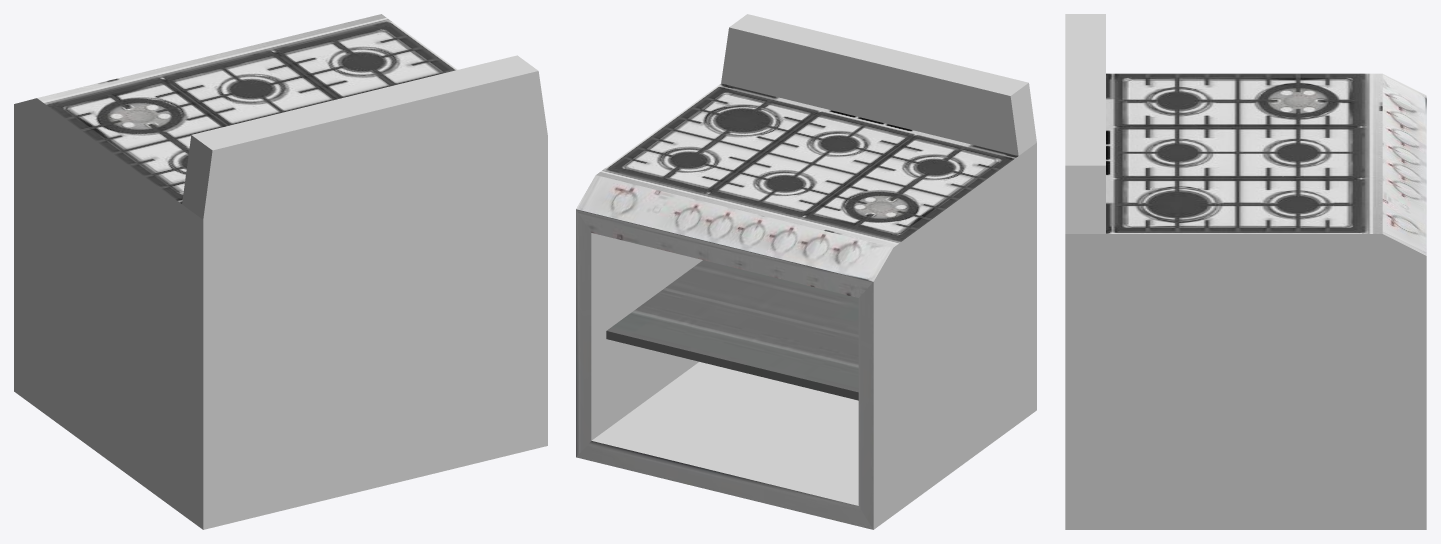
Rendered from Stove_04.glb.
3 renders of one model, left to right at view 1: azimuth 30°, elevation 25°; view 2: azimuth 150°, elevation 25°; view 3: azimuth 270°, elevation 25°, orthographic. The views are drawn at different scales.
Visible parts, largest first — view 1: Stove_04; view 2: Stove_04; view 3: Stove_04.
Boxes of the visible parts, x1,y1,x2,y2 form: Stove_04: [14, 14, 547, 529]; Stove_04: [576, 14, 1036, 529]; Stove_04: [1065, 14, 1426, 529].
Bounding box in the file's own units: 0.9088 × 0.9506 × 0.8643.
Materials: 1 (1 with a texture image).
